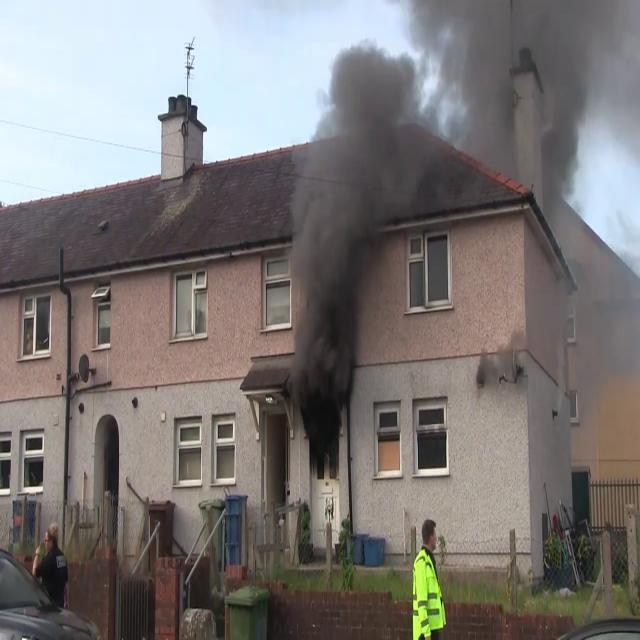Smoke: (292, 34, 422, 390), (414, 0, 637, 198), (478, 260, 620, 394)
